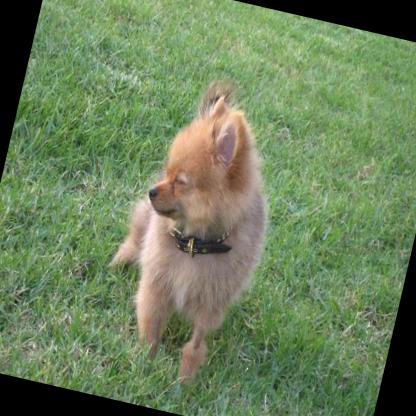Pomeranian: (85, 64, 294, 396)
